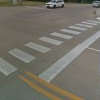crosswalk: (0, 19, 99, 76)
